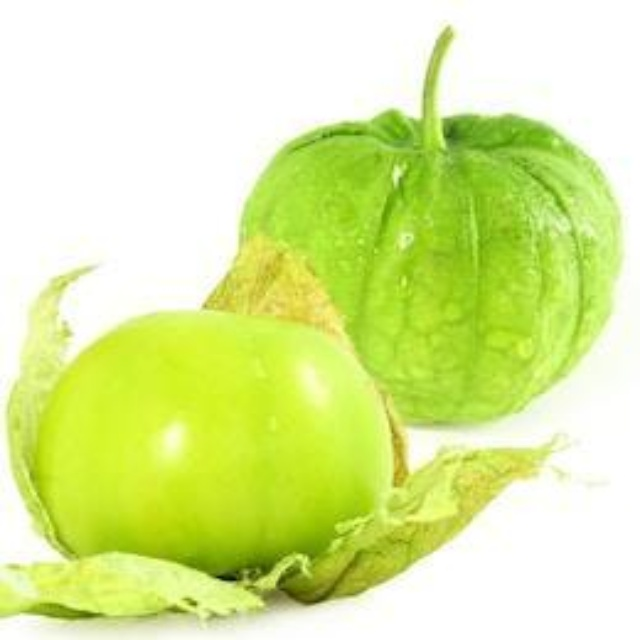tomato: (228, 111, 618, 421), (38, 307, 389, 594)
